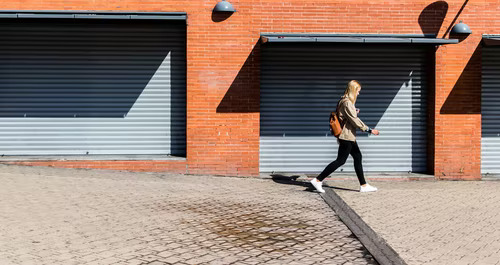person: (310, 80, 378, 193)
